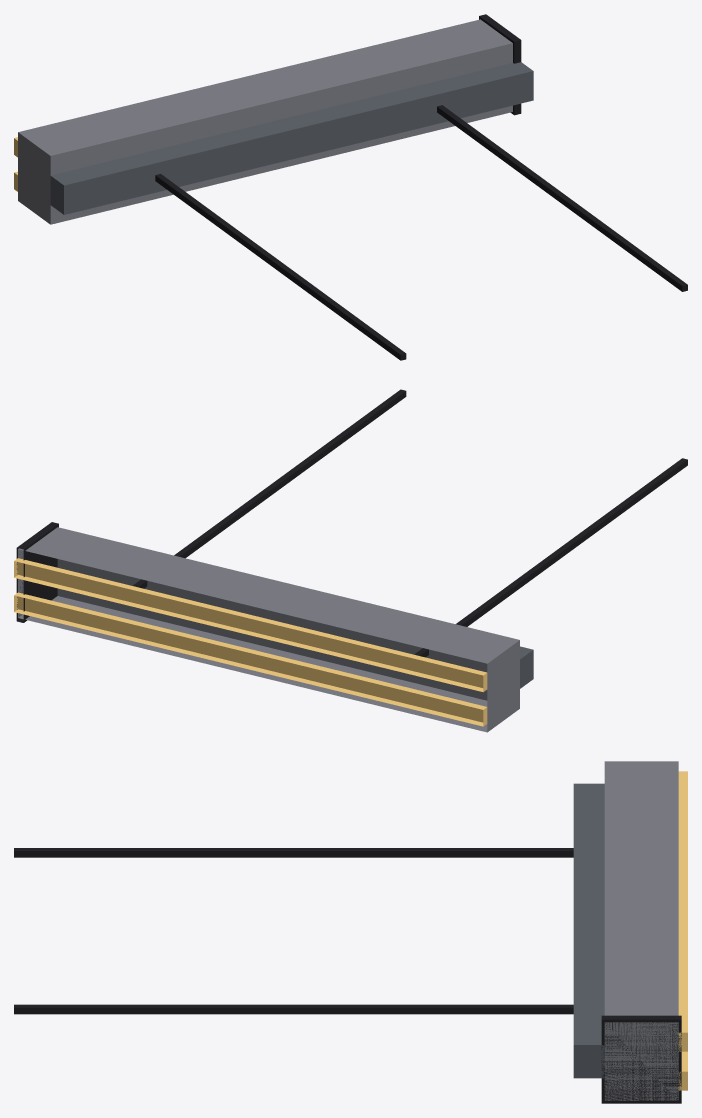
File: b_lamp_large_pro_xn.obj
3 views of the same model, one above another, from view 1: azimuth 30°, elevation 25°; view 2: azimuth 150°, elevation 25°; view 3: azimuth 270°, elevation 25° (orthographic). The views are drawn at different scales.
Bounding box in the file's own units: 1 × 0.15 × 1.09.
Materials: 1 (1 with a texture image).
